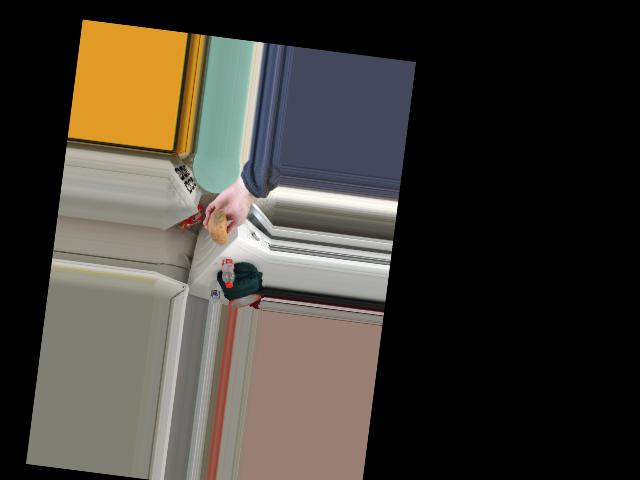sweet_potato: (207, 204, 229, 246)
